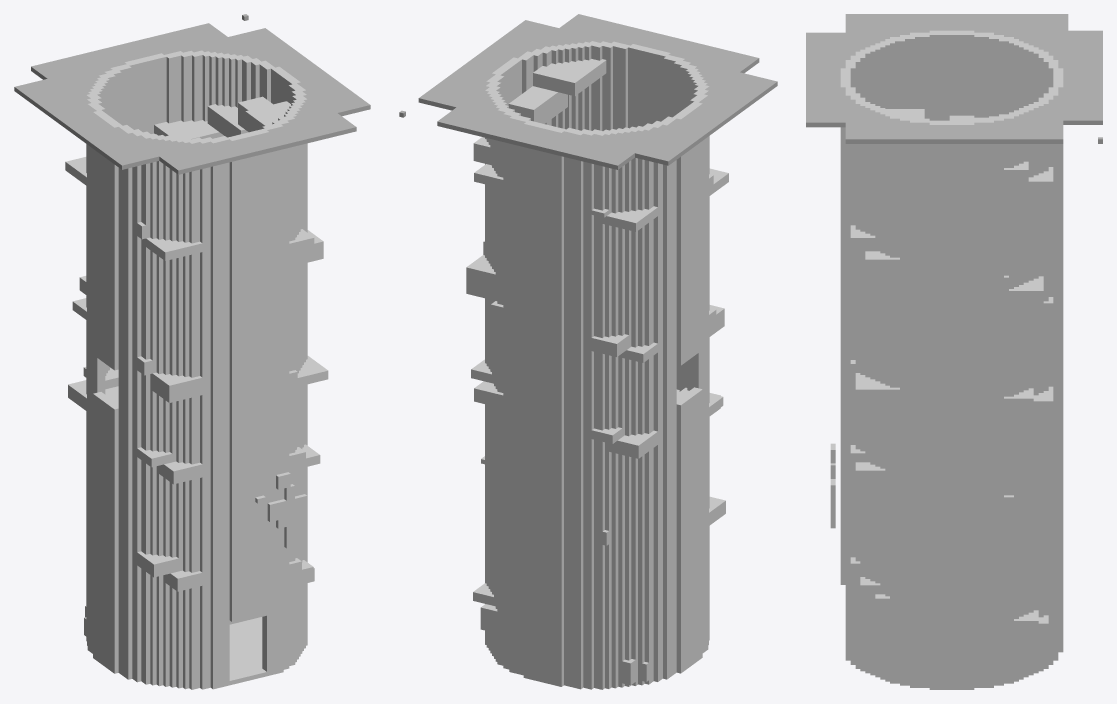
File: tower.obj
The picture shows the model from 3 angles, left to right: view 1: azimuth 30°, elevation 25°; view 2: azimuth 150°, elevation 25°; view 3: azimuth 270°, elevation 25°; orthographic projection. The views are drawn at different scales.
Bounding box in the file's own units: 60 × 126 × 60.
Materials: 1 (1 with a texture image).
